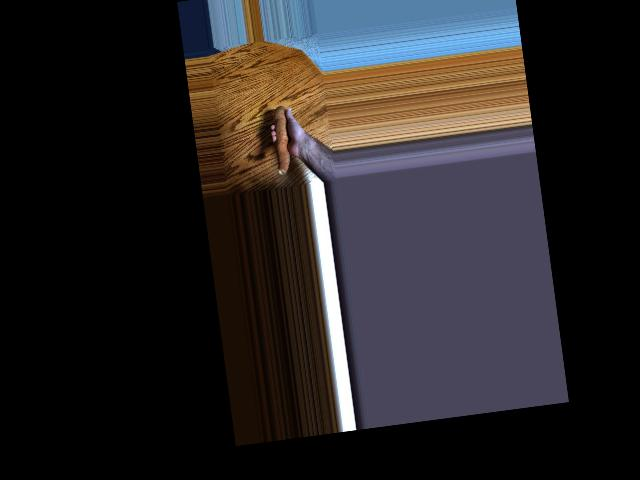sweet_potato: (271, 107, 299, 176)
